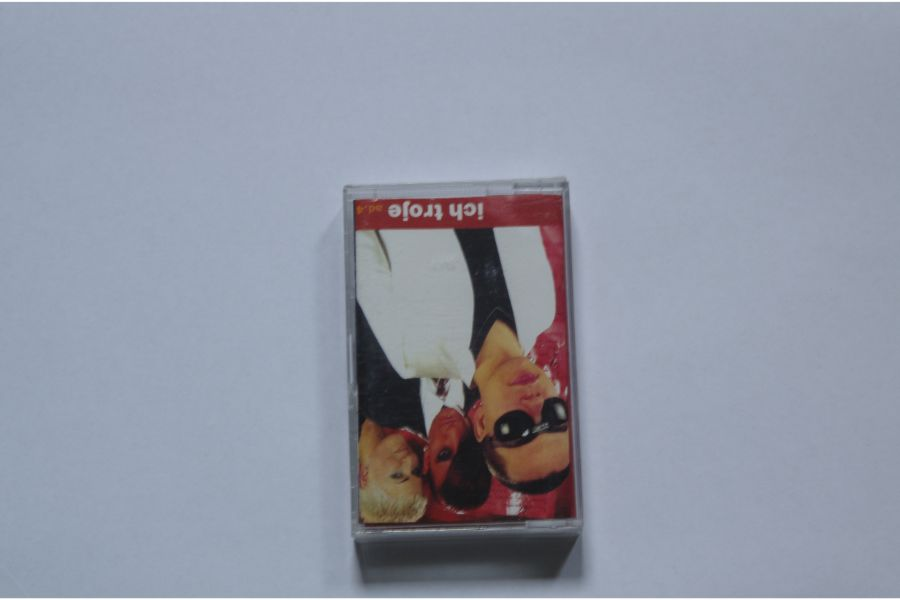album: (338, 173, 584, 542)
